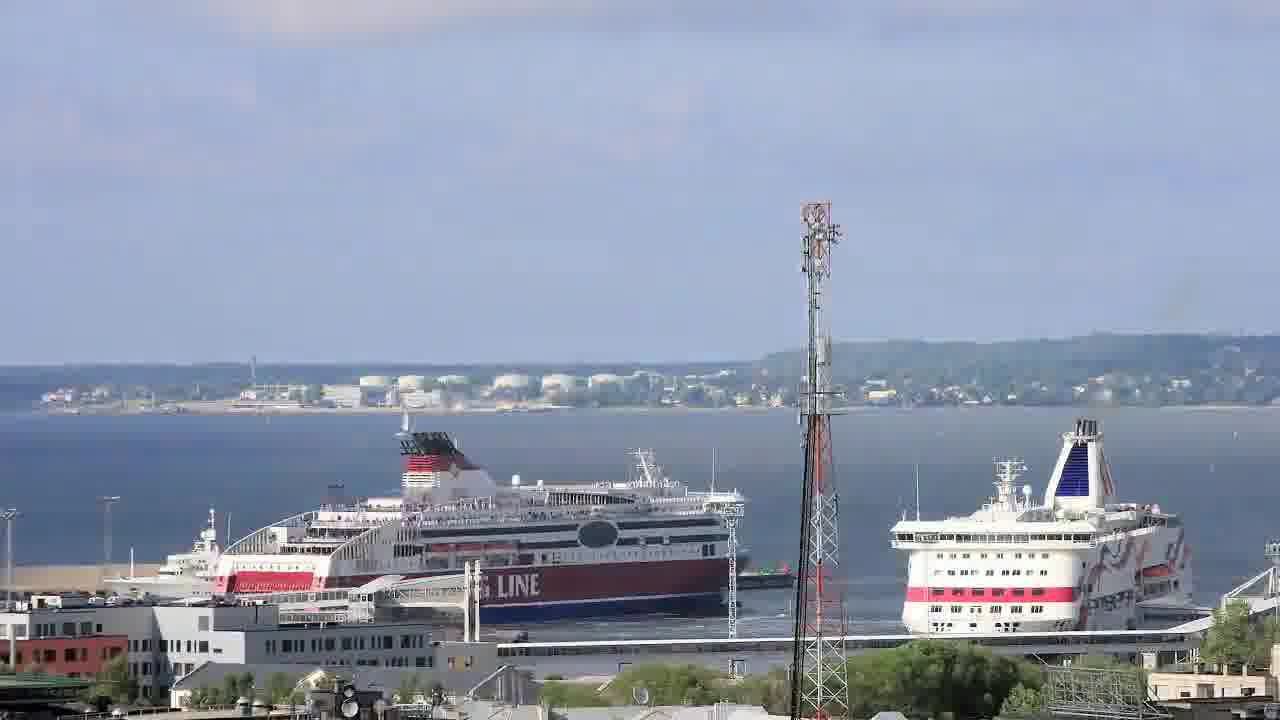type-3: (232, 421, 759, 625), (868, 415, 1225, 638), (89, 517, 228, 613)
